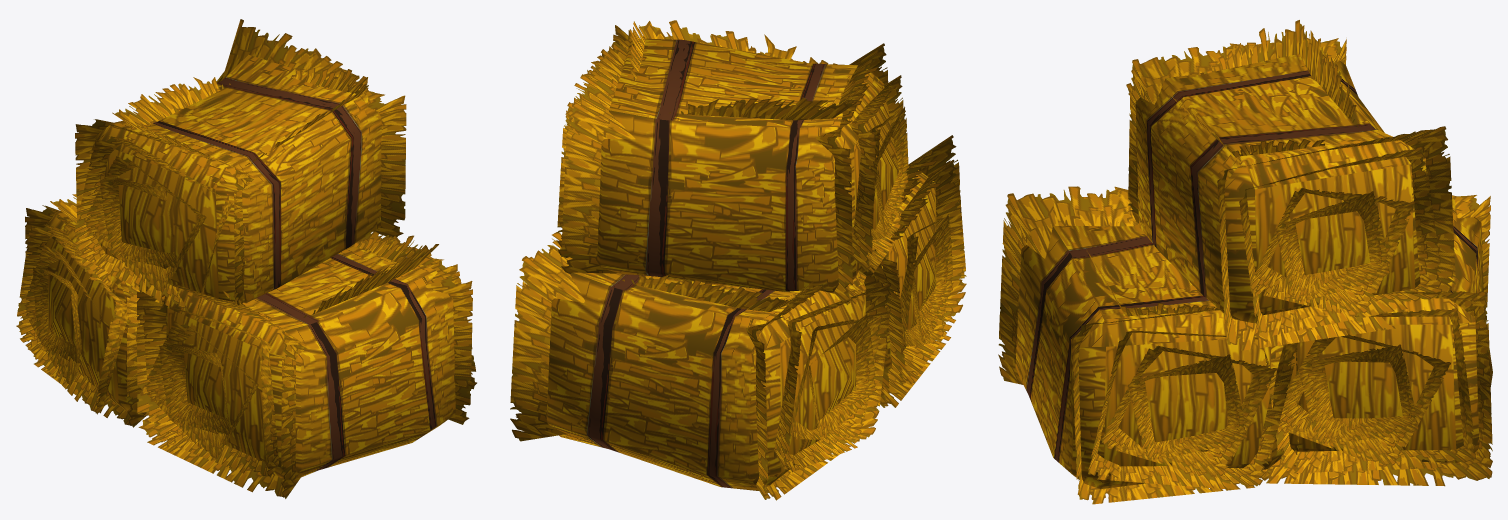
File: SM_PROP_hay_04.FBX
The picture shows the model from 3 angles, left to right: view 1: azimuth 30°, elevation 25°; view 2: azimuth 150°, elevation 25°; view 3: azimuth 270°, elevation 25°; orthographic projection. The views are drawn at different scales.
Visible parts, largest first — view 1: SM_PROP_hay_04; view 2: SM_PROP_hay_04; view 3: SM_PROP_hay_04.
Part boxes in pixels (x1,y1,x2,y2): SM_PROP_hay_04: [16, 19, 476, 498]; SM_PROP_hay_04: [510, 20, 966, 500]; SM_PROP_hay_04: [998, 20, 1492, 504].
Bounding box in the file's own units: 98.18 × 125 × 99.4.
